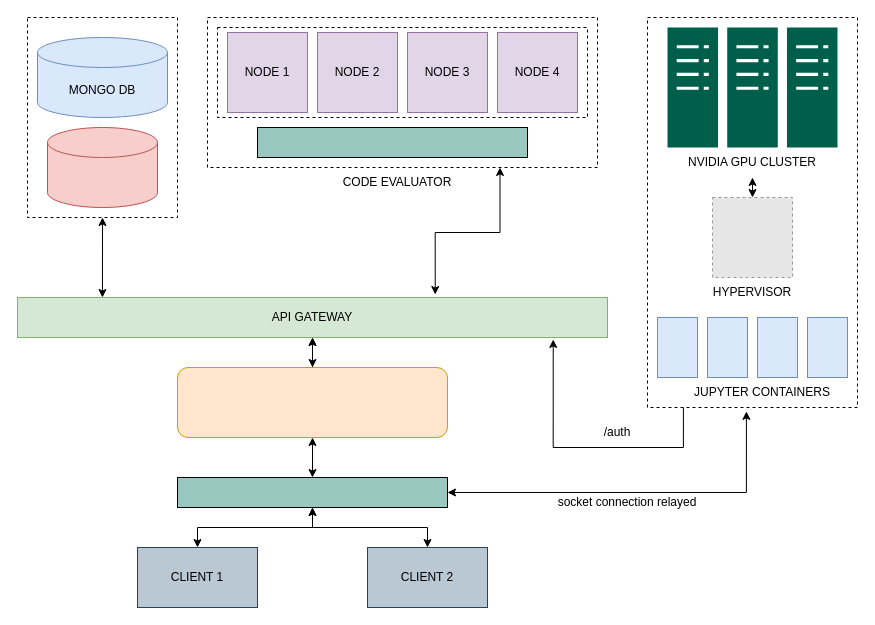
The diagram is 875 pixels wide and 625 high, and some of its shapes have lost their labels. Grey dashed boxes stand in for pictures. Here are the shapes that lost their labels. From the top down, the centre of each, then its label:
point (392, 142): LOAD BALANCER
point (102, 167): REDIS
point (312, 402): FRONTEND SERVER (REACT)
point (312, 492): NGINX PROXY SERVER
